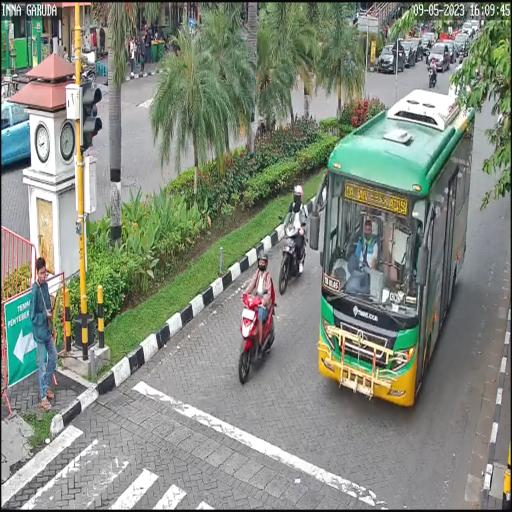mobil: (320, 82, 476, 413)
motor: (230, 279, 278, 383), (276, 210, 308, 296)
